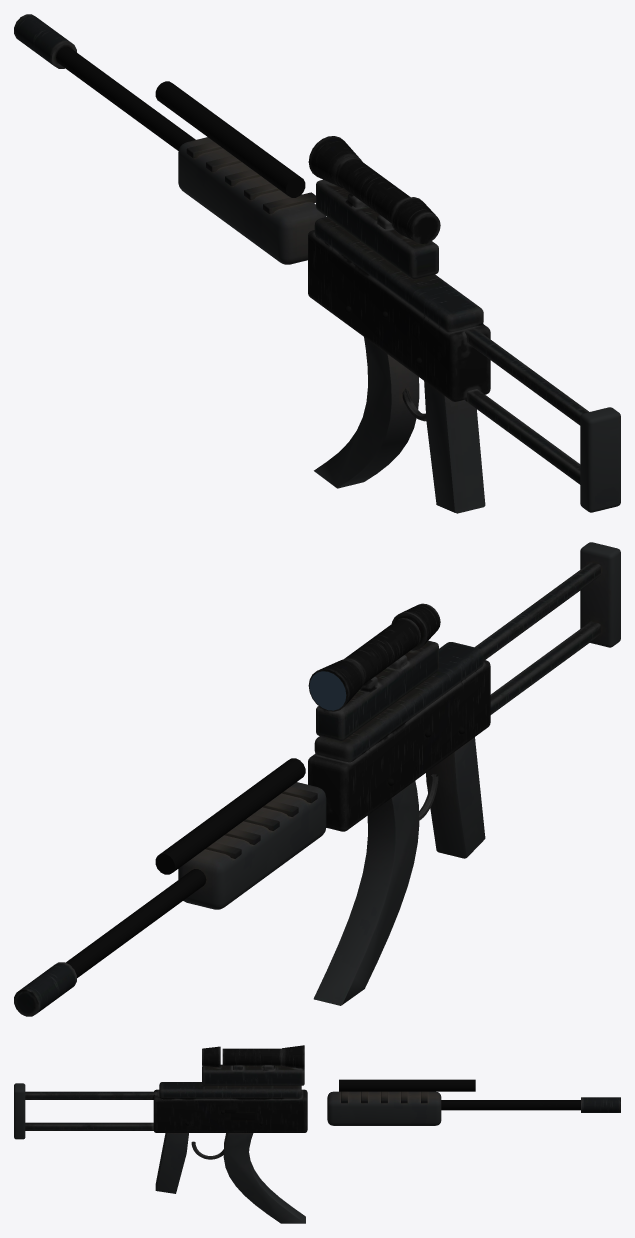
3 views of the same model, one above another, from view 1: azimuth 30°, elevation 25°; view 2: azimuth 150°, elevation 25°; view 3: azimuth 270°, elevation 25° (orthographic). The views are drawn at different scales.
Parts seen in each view (by area): view 1: body_receiver, body_furniture, body_metal, mag_furniture; view 2: body_receiver, body_furniture, mag_furniture, body_metal, sg553; view 3: body_receiver, body_furniture, body_metal, mag_furniture.
Part boxes in pixels (x1,y1,x2,y2): body_receiver: (14, 14, 588, 484); body_furniture: (178, 137, 620, 513); body_metal: (56, 46, 421, 364); mag_furniture: (314, 337, 419, 488); body_receiver: (14, 562, 600, 1016); body_furniture: (178, 542, 620, 909); mag_furniture: (313, 781, 419, 1005); body_metal: (65, 727, 464, 977); sg553: (309, 671, 346, 710); body_receiver: (25, 1045, 620, 1159); body_furniture: (14, 1083, 441, 1193); body_metal: (185, 1079, 580, 1125); mag_furniture: (223, 1133, 305, 1223).
Size of the model in its own units: 0.058 by 0.337 by 1.07.
5 materials, 4 textured.
